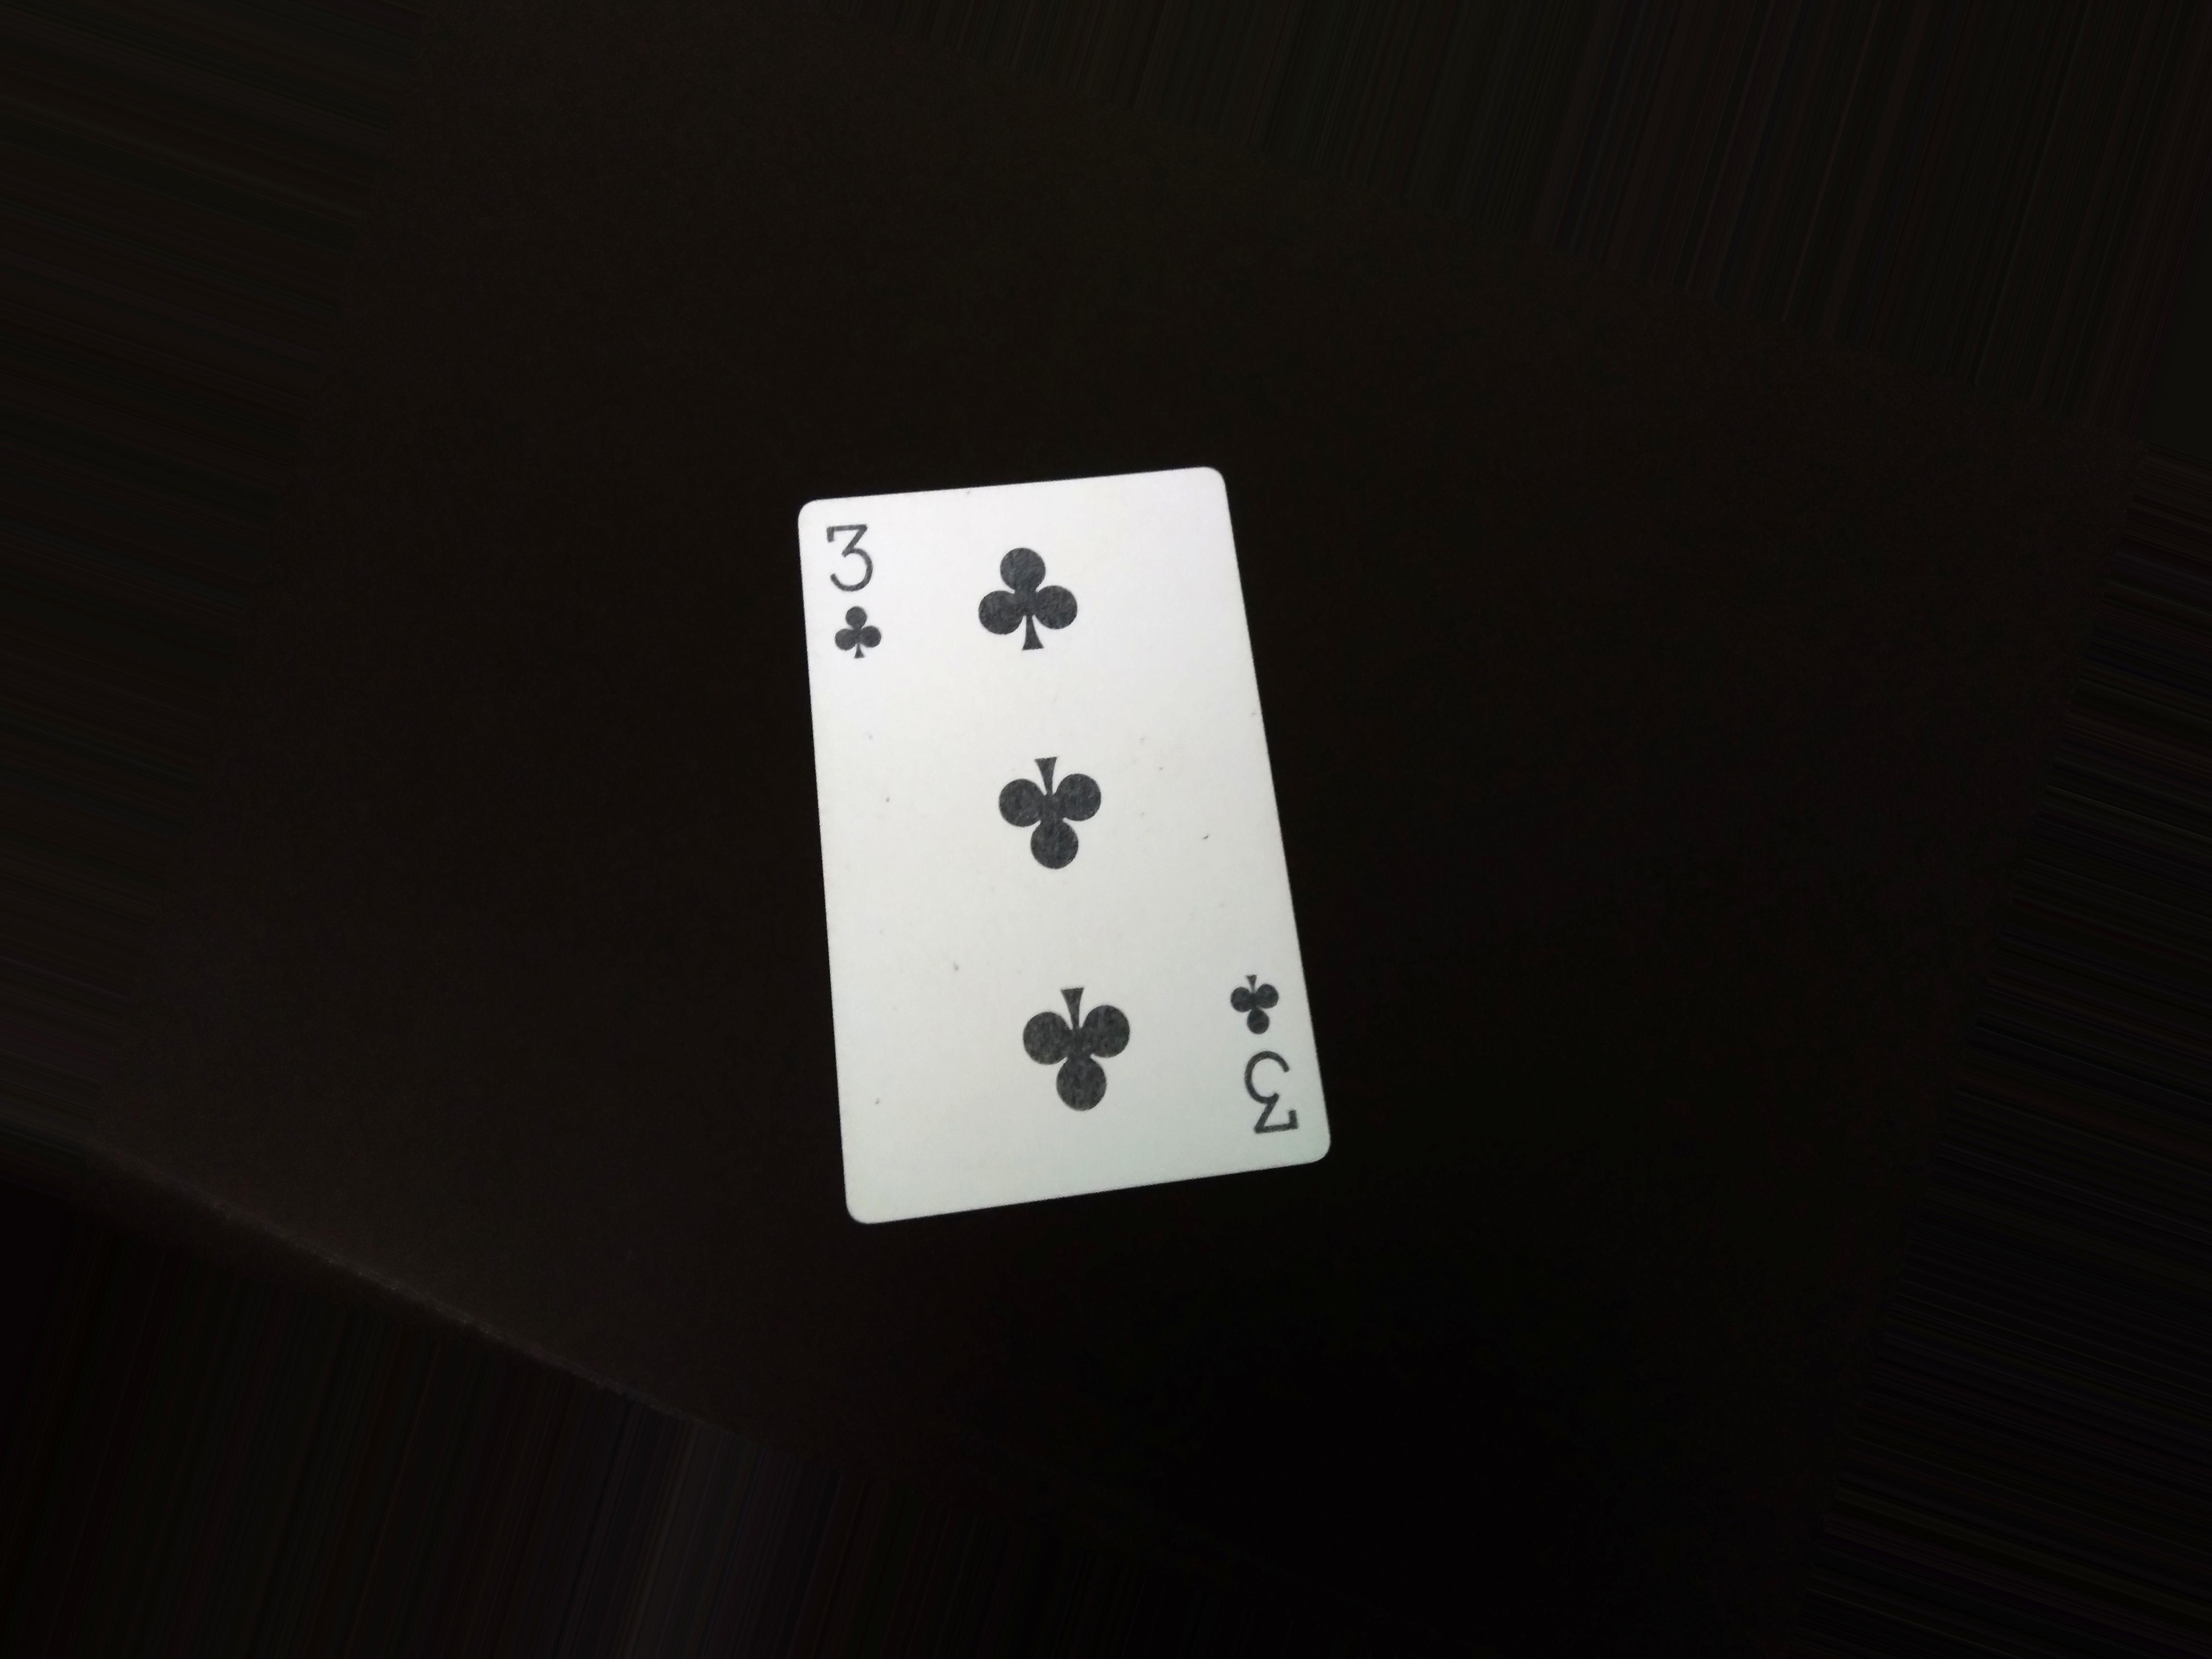3C: (812, 514, 927, 673)
